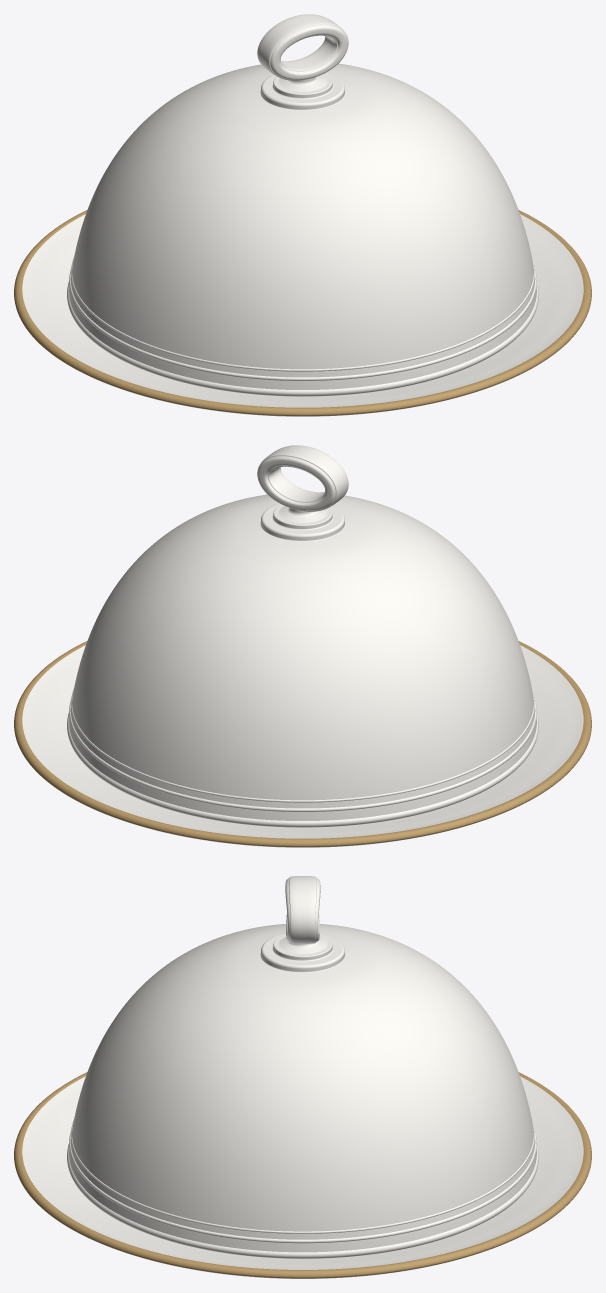
The model's file is dinner.glb.
3 views of the same model, one above another, from view 1: azimuth 30°, elevation 25°; view 2: azimuth 150°, elevation 25°; view 3: azimuth 270°, elevation 25° (orthographic).
Visible parts, largest first — view 1: cover_mesh_mesh, plate_body_mesh, plate_gilt_mesh, cover_cloche_beads, cover_handle_mesh, cover_cloche_finial; view 2: cover_mesh_mesh, plate_body_mesh, plate_gilt_mesh, cover_cloche_beads, cover_handle_mesh, cover_cloche_finial; view 3: cover_mesh_mesh, plate_body_mesh, plate_gilt_mesh, cover_cloche_beads, cover_cloche_finial, cover_handle_mesh.
Boxes of the visible parts, x1=… form: cover_mesh_mesh: x1=69, y1=63, x2=536, y2=389; plate_body_mesh: x1=22, y1=214, x2=583, y2=416; plate_gilt_mesh: x1=14, y1=210, x2=591, y2=415; cover_cloche_beads: x1=67, y1=258, x2=538, y2=396; cover_handle_mesh: x1=257, y1=14, x2=348, y2=80; cover_cloche_finial: x1=260, y1=72, x2=345, y2=110; cover_mesh_mesh: x1=69, y1=494, x2=536, y2=820; plate_body_mesh: x1=22, y1=645, x2=583, y2=847; plate_gilt_mesh: x1=14, y1=641, x2=591, y2=846; cover_cloche_beads: x1=67, y1=689, x2=538, y2=827; cover_handle_mesh: x1=257, y1=445, x2=348, y2=511; cover_cloche_finial: x1=260, y1=503, x2=345, y2=541; cover_mesh_mesh: x1=69, y1=924, x2=536, y2=1252; plate_body_mesh: x1=22, y1=1076, x2=583, y2=1278; plate_gilt_mesh: x1=14, y1=1072, x2=591, y2=1278; cover_cloche_beads: x1=67, y1=1120, x2=538, y2=1258; cover_cloche_finial: x1=260, y1=933, x2=345, y2=972; cover_handle_mesh: x1=285, y1=876, x2=320, y2=943.
Size of what is drawn, in the model's own units: 1.6 by 0.9437 by 1.6.
